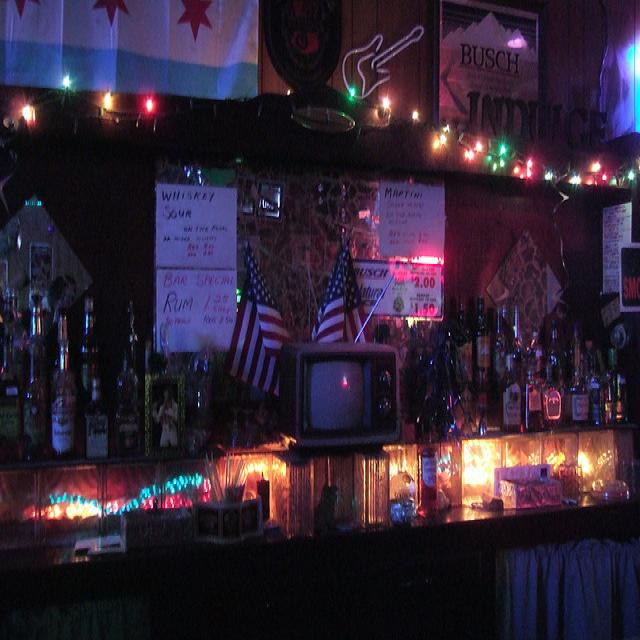Bottle: (542, 308, 611, 439), (81, 295, 132, 469), (21, 285, 60, 498), (138, 319, 179, 484), (52, 287, 86, 457), (486, 298, 522, 442), (523, 314, 559, 440), (596, 323, 640, 422), (426, 305, 463, 420)
